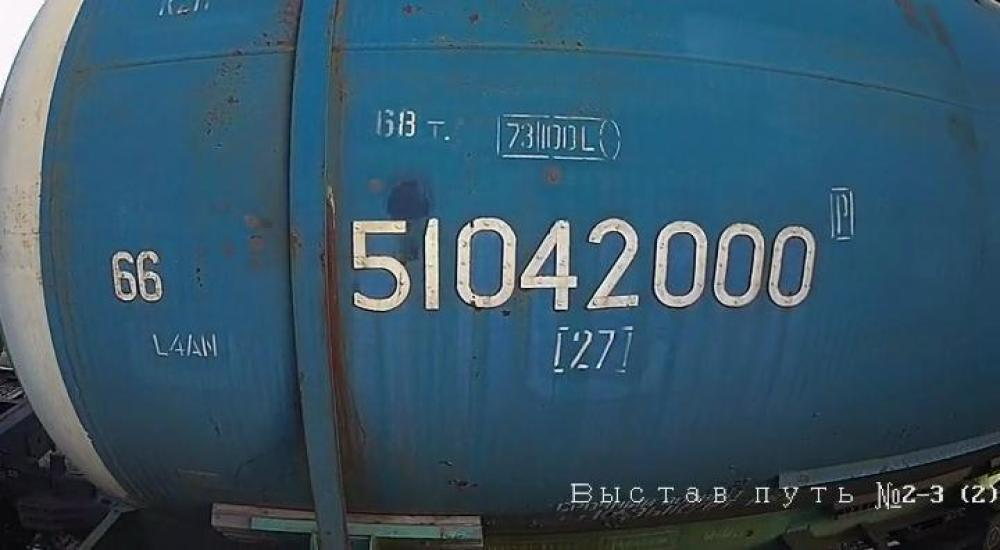Wagon-number: (344, 209, 822, 318)
